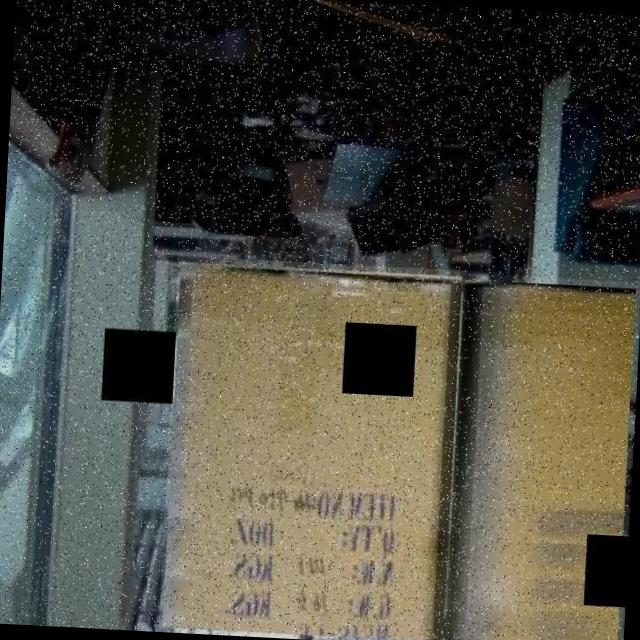box: (158, 255, 467, 640), (441, 273, 640, 640)
